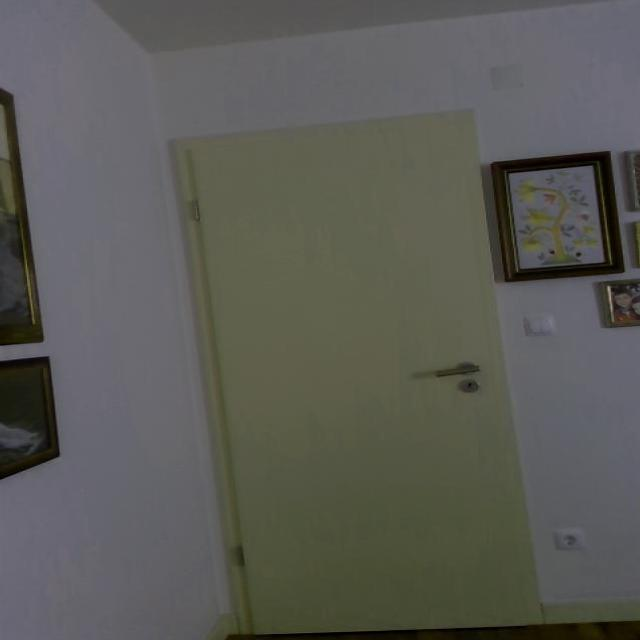door: (171, 107, 545, 635)
